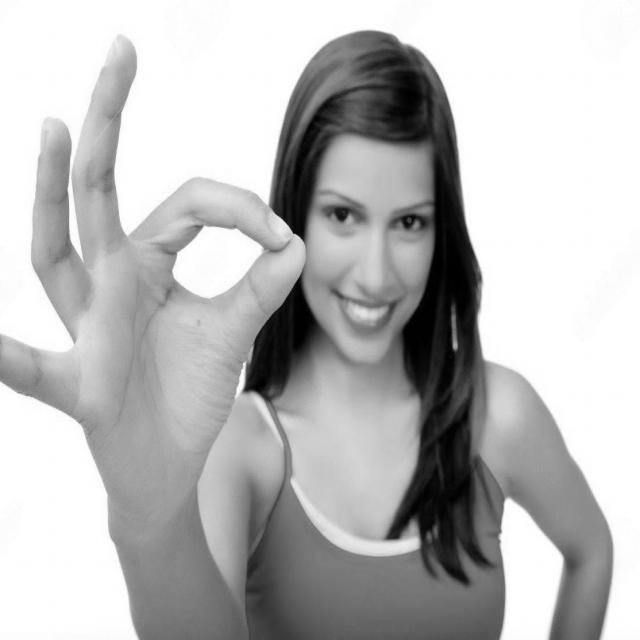perfect: (0, 24, 311, 514)
